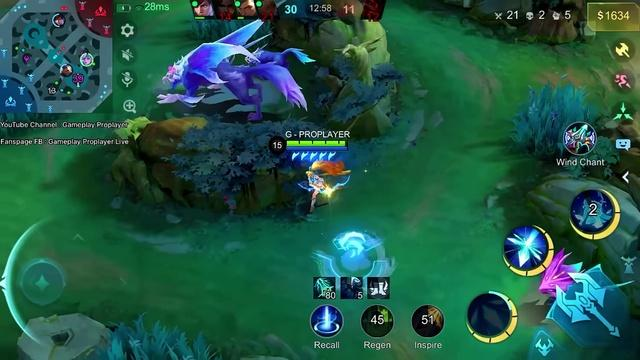Adc_Aliado: (79, 52, 95, 67)
Arbusto: (512, 85, 596, 159), (103, 315, 221, 360), (190, 20, 253, 42)
Buff_blue: (159, 21, 313, 120)
Esbirro_Jungla: (538, 248, 581, 296)
HP_Heroe_Principal: (284, 140, 348, 146)
Jungla_Aliado: (58, 63, 74, 78)
Mid_Aliado: (53, 13, 64, 27)
Minimapa: (0, 0, 115, 114)
Miya: (298, 160, 350, 211)
Skill2: (502, 226, 555, 275)
